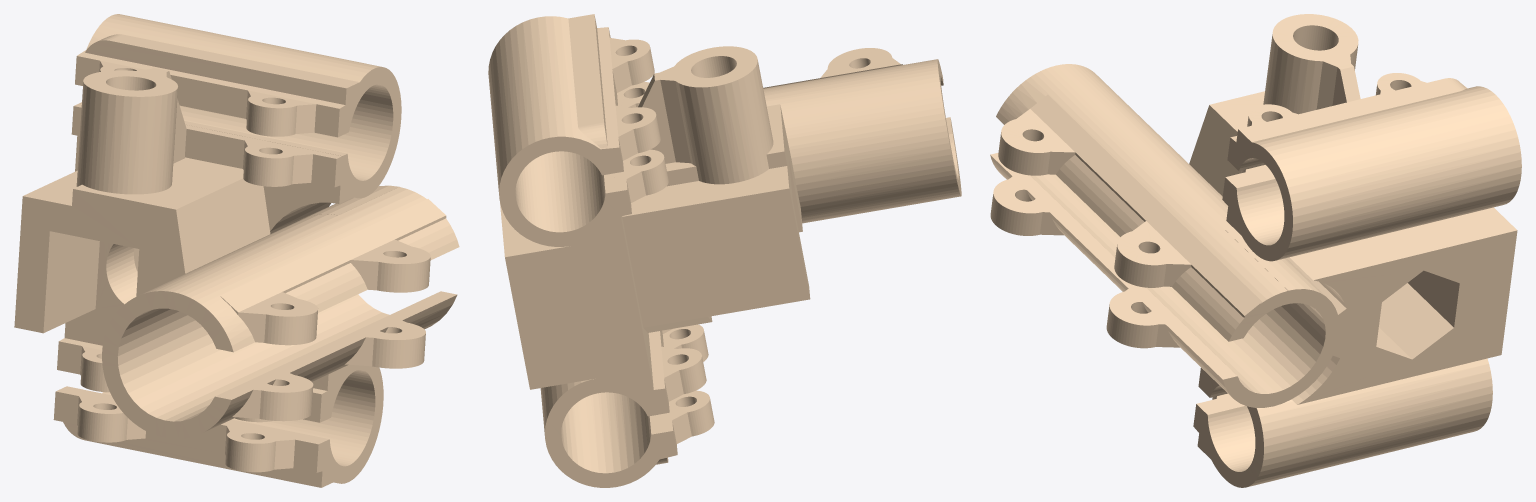
File: gear2_2.dae
3 renders of one model, left to right at view 1: azimuth 30°, elevation 25°; view 2: azimuth 150°, elevation 25°; view 3: azimuth 270°, elevation 25°, orthographic. The views are drawn at different scales.
Parts seen in each view (by area): view 1: gear2_019; view 2: gear2_019; view 3: gear2_019.
Part boxes in pixels (x1,y1,x2,y2): gear2_019: (14,14,459,487); gear2_019: (488,14,961,487); gear2_019: (990,14,1521,487).
Bounding box in the file's own units: 0.0776 × 0.0922 × 0.0726.
